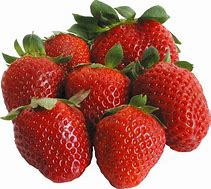Fresa: (130, 60, 211, 154), (13, 97, 93, 183), (93, 104, 169, 189), (91, 15, 182, 76), (2, 53, 65, 124), (65, 63, 135, 124), (43, 31, 92, 71)
